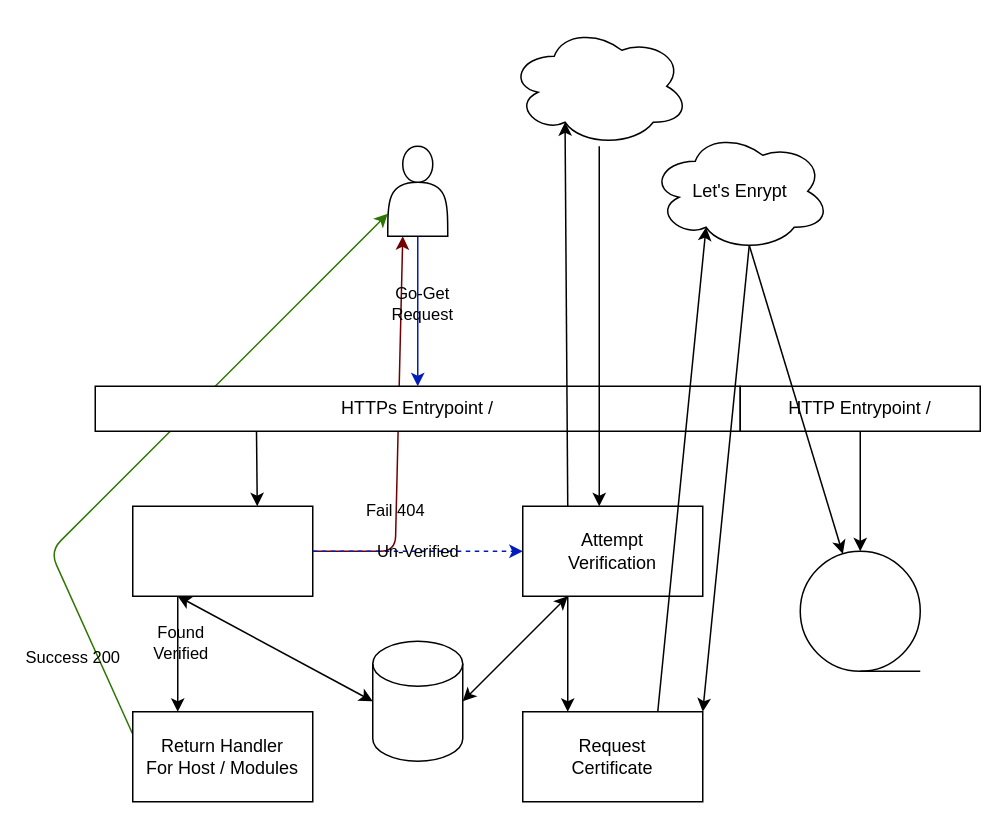
The diagram is 1007 pixels wide and 828 high, and some of its shapes have lost their labels. The shapes that lost their labels are listed below. From the top down, each one's centre as x and y in pixels, then its label:
point (598, 85): DNS
point (222, 550): Domain Check
point (859, 610): Let's Encrypt Verification
